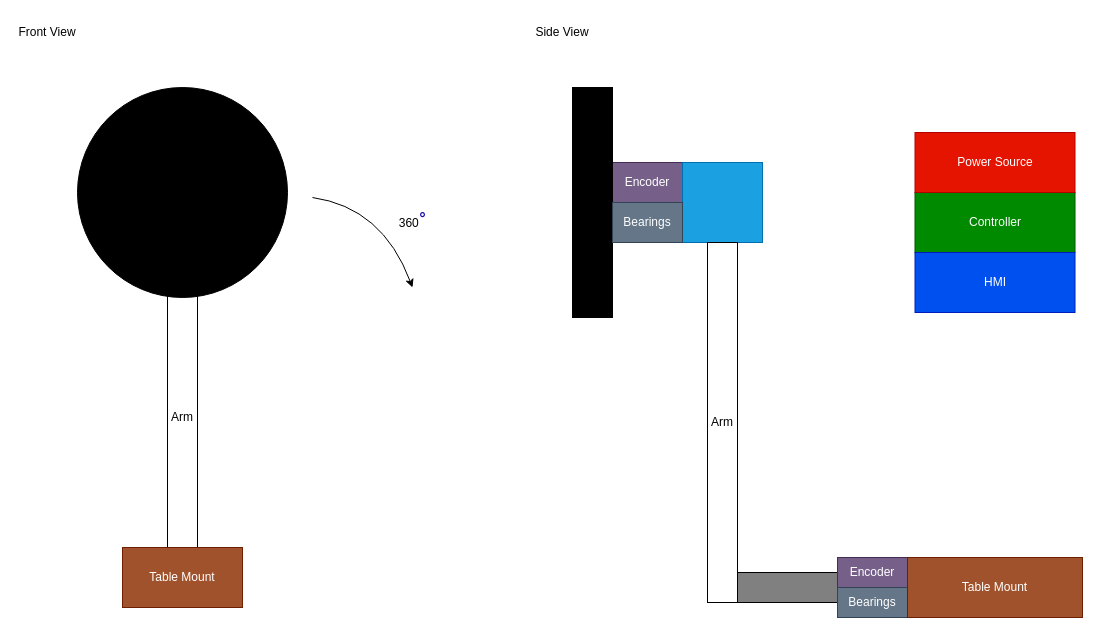
Some shapes in this 1100 by 635 pixel diagram are drawn without their labels. The box of each missing label's shape, as (x1, y1, x2, y2) in pixels:
Actuator: (682, 162, 762, 242)
Pendulum: (76, 86, 288, 298)
Shaft: (736, 572, 838, 602)
